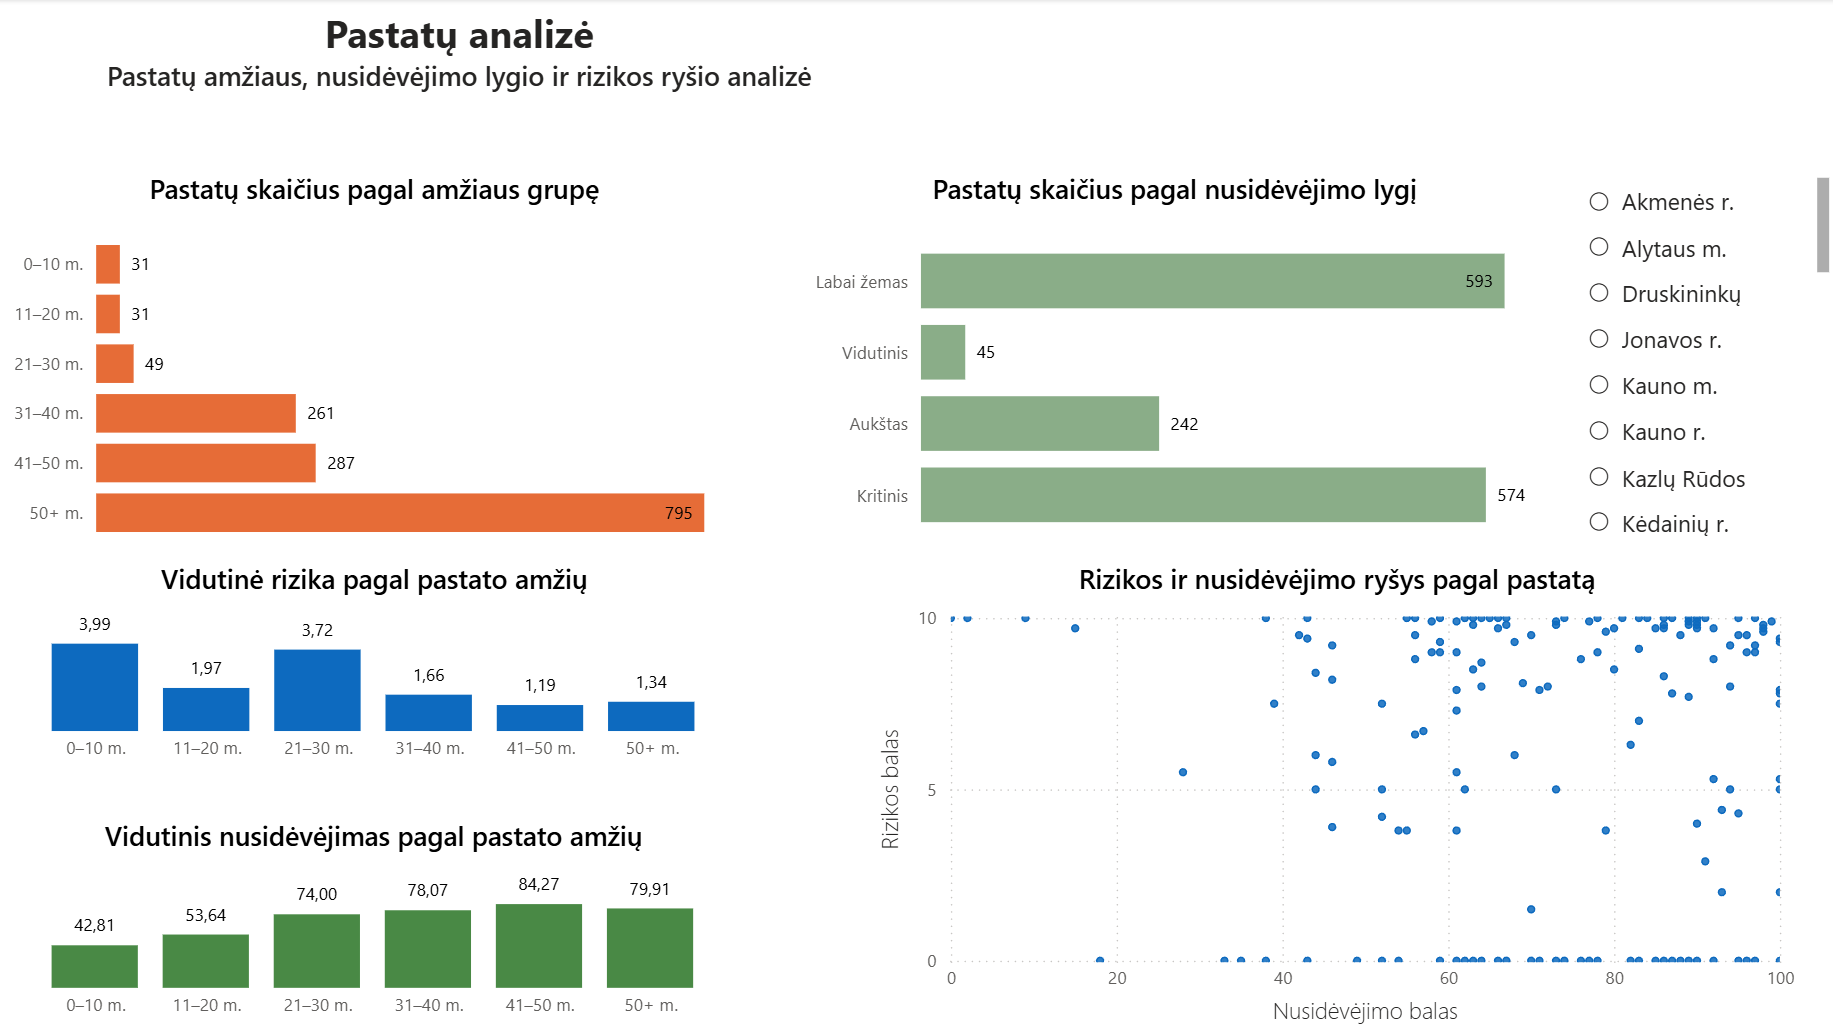

The dashboard page shown, as its layout file describes it:
{"tool":"powerbi","page":{"name":"Pastatų analizė","canvas":[1280,720],"ordinal":1},"visuals":[{"type":"textbox","box":[0,0,640,85],"z":0},{"type":"listSlicer","fields":{"Values":["Pastatai.savivaldybe_sutvarkyta"]},"box":[1100.4,119.8,179.7,271.5],"z":1000},{"type":"clusteredColumnChart","title":"Vidutinė rizika pagal pastato amžių","fields":{"Category":["Pastatai.AmziausGrupe"],"Y":["Avg(Pastatai.rizikos_balas)"]},"box":[0,391.3,521.7,149.8],"z":2000},{"type":"clusteredColumnChart","title":"Vidutinis nusidėvėjimas pagal pastato amžių","fields":{"Category":["Pastatai.AmziausGrupe"],"Y":["Avg(Pastatai.nusidevejimo_balas)"]},"box":[0,570,520.8,149.8],"z":3000},{"type":"clusteredBarChart","title":"Pastatų skaičius pagal amžiaus grupę","fields":{"Category":["Pastatai.AmziausGrupe"],"Y":["CountNonNull(Pastatai.adresas)"]},"box":[0,119.8,521.7,271.5],"z":4000},{"type":"clusteredBarChart","title":"Pastatų skaičius pagal nusidėvėjimo lygį","fields":{"Y":["CountNonNull(Pastatai.adresas)"],"Category":["Pastatai.NusidevejimoLygis"]},"box":[557.5,119.8,521.7,271.5],"z":5000},{"type":"scatterChart","title":"Rizikos ir nusidėvėjimo ryšys pagal pastatą","fields":{"X":["Pastatai.nusidevejimo_balas"],"Y":["Pastatai.rizikos_balas"]},"box":[607.7,391.3,647.3,328.5],"z":6000}]}

Visuals, with their boxes in screenshot pixels (x1, y1, x2, y2), scaled from the page's 1280x720 canvas onto the 1833x1029 screenshot:
textbox: <box>0,0,916,121</box>
listSlicer - Pastatai.savivaldybe_sutvarkyta: <box>1576,171,1832,559</box>
"Vidutinė rizika pagal pastato amžių" clusteredColumnChart: <box>0,559,747,773</box>
"Vidutinis nusidėvėjimas pagal pastato amžių" clusteredColumnChart: <box>0,815,746,1028</box>
"Pastatų skaičius pagal amžiaus grupę" clusteredBarChart: <box>0,171,747,559</box>
"Pastatų skaičius pagal nusidėvėjimo lygį" clusteredBarChart: <box>798,171,1545,559</box>
"Rizikos ir nusidėvėjimo ryšys pagal pastatą" scatterChart: <box>870,559,1797,1028</box>
